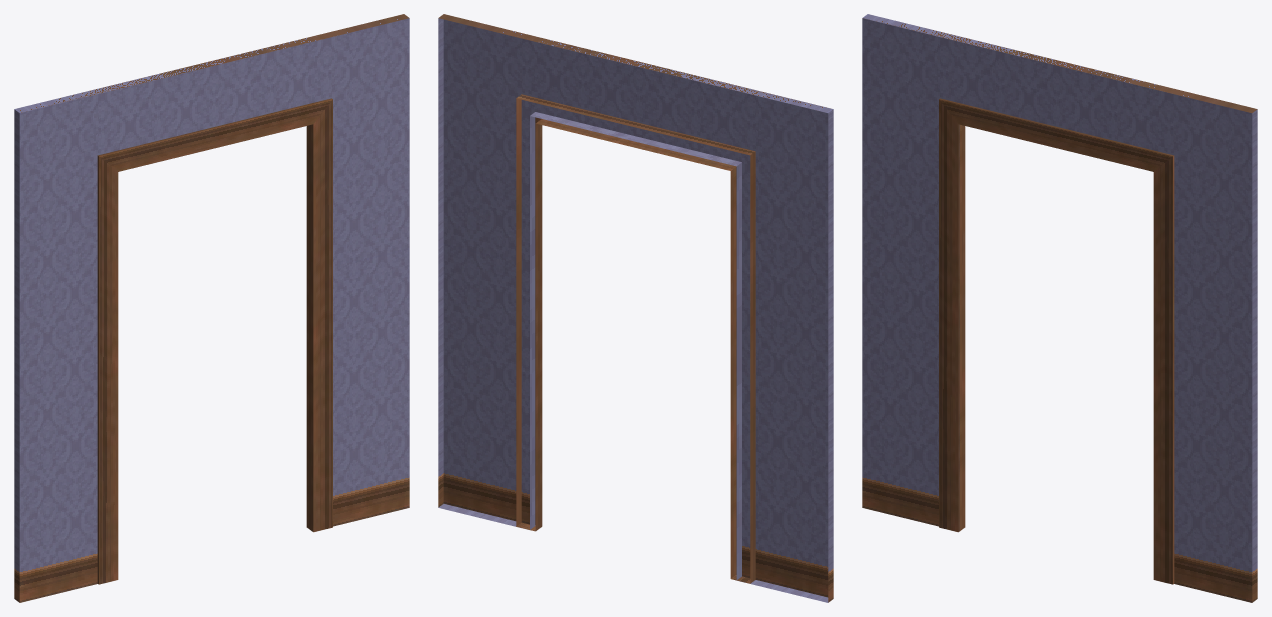
File: doorway3.glb
The picture shows the model from 3 angles, left to right: view 1: azimuth 30°, elevation 25°; view 2: azimuth 150°, elevation 25°; view 3: azimuth 330°, elevation 25°; orthographic projection.
Visible parts, largest first — view 1: doorway3; view 2: doorway3; view 3: doorway3.
Part boxes in pixels (x1=…): doorway3: x1=14, y1=14, x2=409, y2=602; doorway3: x1=438, y1=14, x2=833, y2=602; doorway3: x1=862, y1=14, x2=1257, y2=602.
Bounding box in the file's own units: 2 × 2.4 × 0.06.
Materials: 1 (1 with a texture image).
